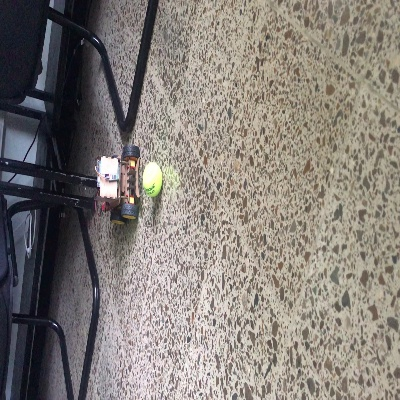Ball: (141, 163, 162, 197)
Robot: (96, 145, 139, 225)
